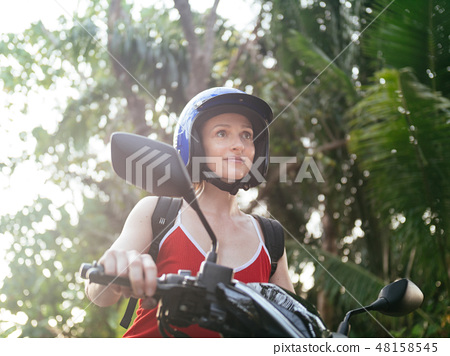helmet: (171, 95, 277, 190)
